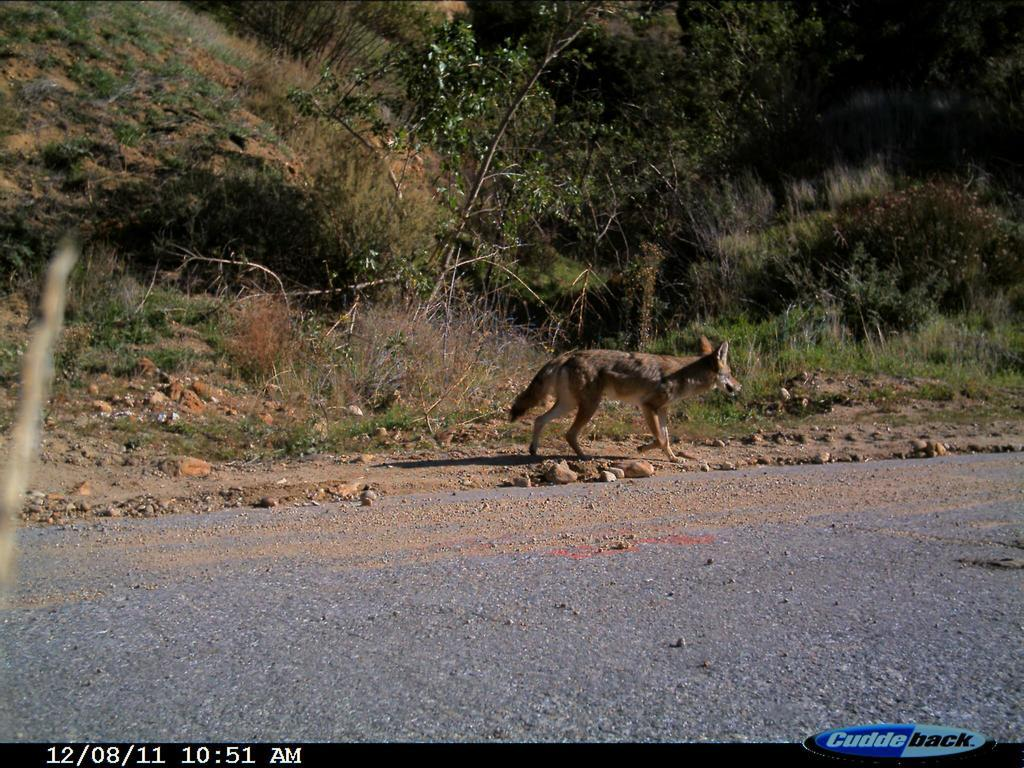coyote: (507, 326, 758, 475)
